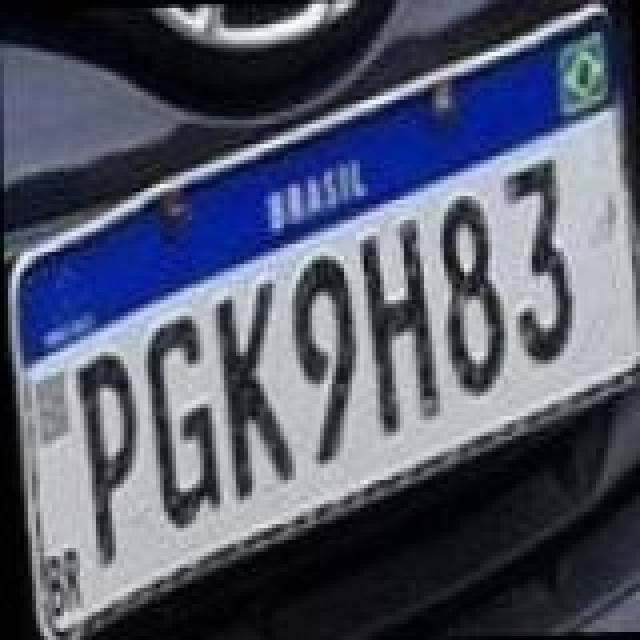3: (496, 148, 576, 364)
8: (434, 188, 510, 400)
9: (288, 250, 364, 470)
G: (138, 312, 222, 532)
H: (352, 212, 440, 440)
K: (210, 270, 298, 502)
P: (68, 344, 144, 568)
